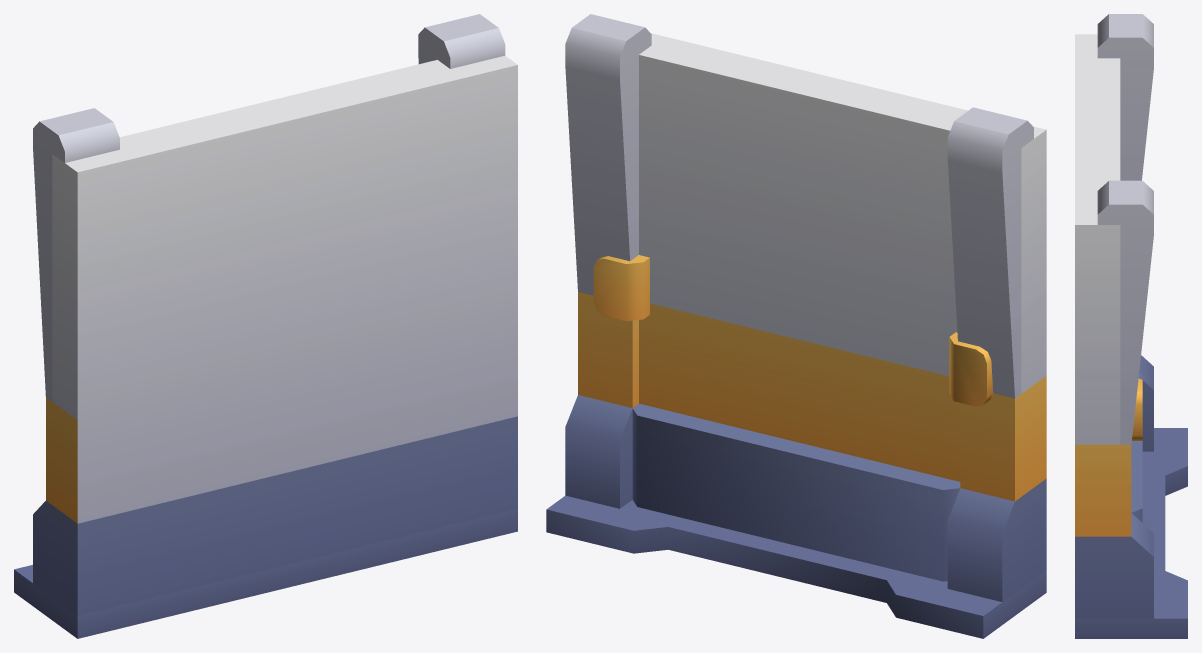
File: kenney-modular-space-template-wall.glb
3 views of the same model, side by side, from view 1: azimuth 30°, elevation 25°; view 2: azimuth 150°, elevation 25°; view 3: azimuth 270°, elevation 25° (orthographic). The views are drawn at different scales.
Parts seen in each view (by area): view 1: template-wall; view 2: template-wall; view 3: template-wall.
Part boxes in pixels (bbox=[...]): template-wall: bbox=[14, 14, 517, 638]; template-wall: bbox=[546, 14, 1046, 638]; template-wall: bbox=[1075, 14, 1187, 638].
Bounding box in the file's own units: 4 × 4.25 × 1.
1 material, 1 textured.
